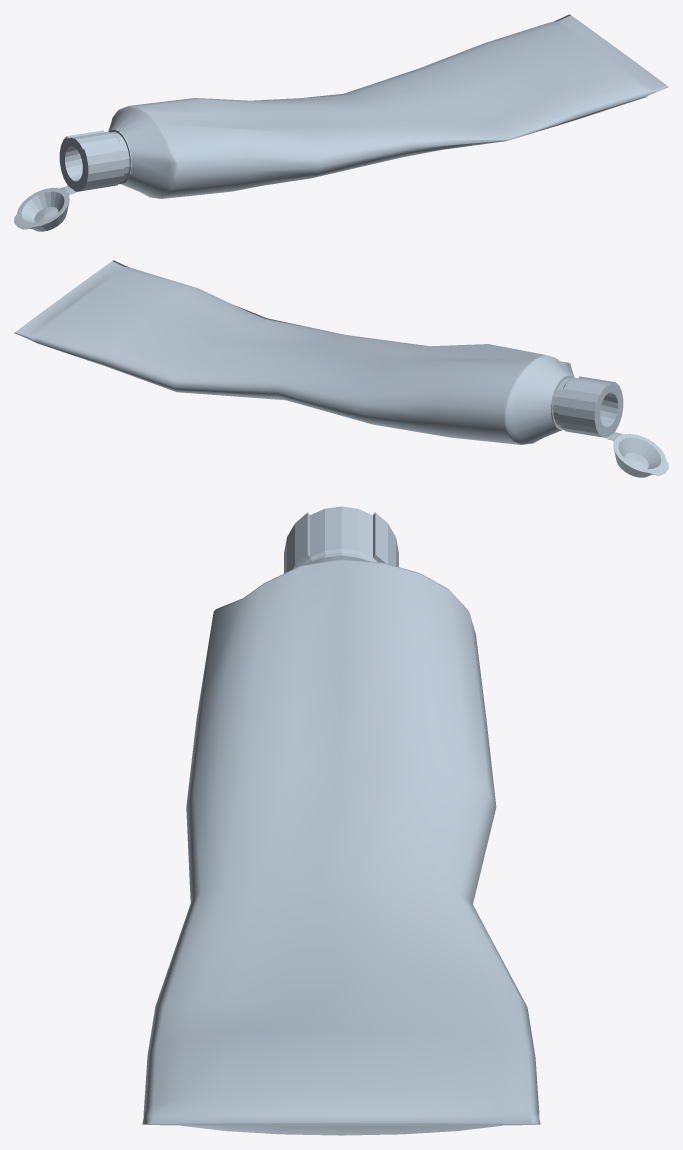
Rendered from Tooth_paste_half_open.fbx.
The picture shows the model from 3 angles, top to bottom: view 1: azimuth 30°, elevation 25°; view 2: azimuth 150°, elevation 25°; view 3: azimuth 270°, elevation 25°; orthographic projection. The views are drawn at different scales.
Parts seen in each view (by area): view 1: polySurface92; view 2: polySurface92; view 3: polySurface92.
Part boxes in pixels (left/top/right/bottom): polySurface92: left=14, top=14, right=668, bottom=231; polySurface92: left=14, top=260, right=668, bottom=477; polySurface92: left=142, top=506, right=540, bottom=1135.
Bounding box in the file's own units: 0.718 × 0.1012 × 0.2058.
